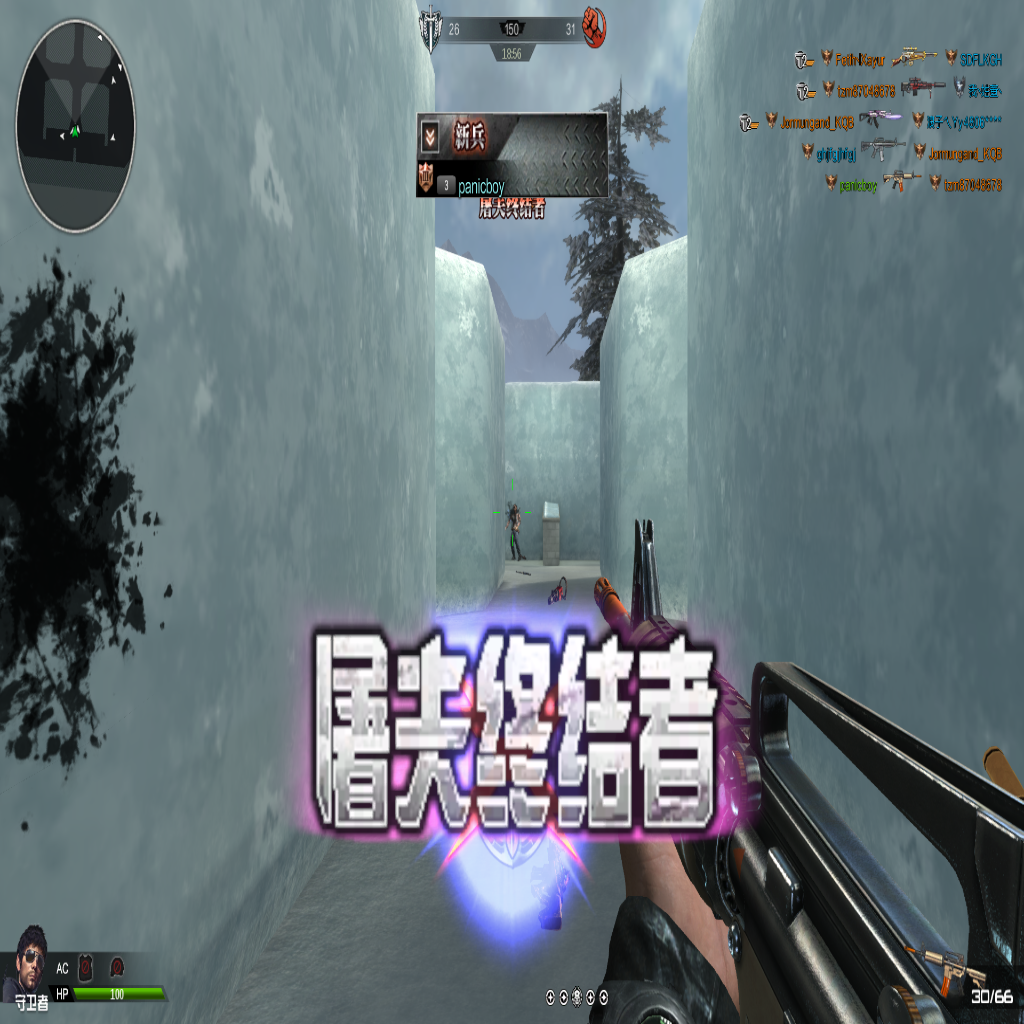tt: (506, 502, 524, 562)
